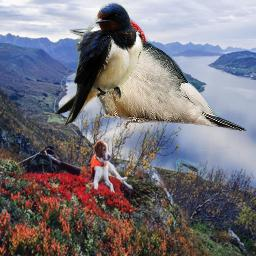Swallow: (54, 2, 144, 128)
Woodpecker: (69, 16, 249, 131)
